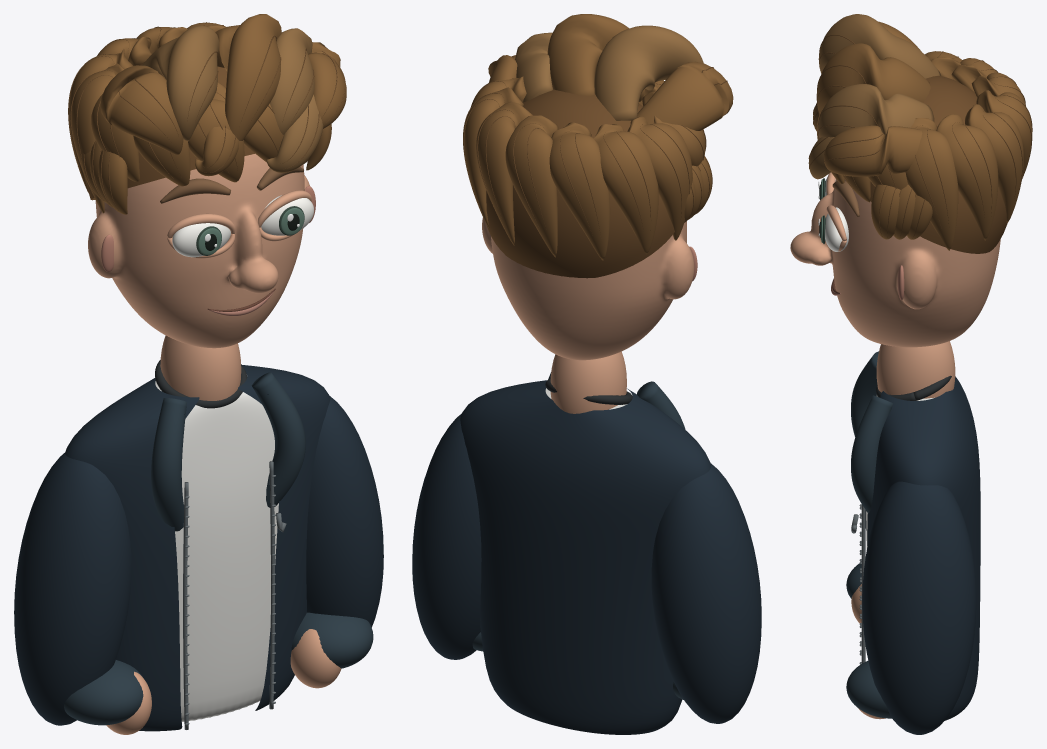
Rendered from nikk-avatar.glb.
The picture shows the model from 3 angles, left to right: view 1: azimuth 30°, elevation 25°; view 2: azimuth 150°, elevation 25°; view 3: azimuth 270°, elevation 25°; orthographic projection. The views are drawn at different scales.
Visible parts, largest first — view 1: Cotton shirt, Open cardigan, Cardigan sleeve, Face, Cardigan sleeve.001, Swept wave 15, Swept wave 14, Swept wave 13, Neck, Soft cardigan collar, Soft cardigan collar.001, Ribbed cuff (+24 smaller); view 2: Open cardigan, Cardigan sleeve, Face, Cardigan sleeve.001, Curly hair base, Swept wave 14, Swept wave 04, Swept wave 05, Swept wave 03, Swept wave 13, Swept wave 15, Swept wave 06 (+8 smaller); view 3: Cardigan sleeve.001, Face, Open cardigan, Swept wave 01, Swept wave 15, Swept wave 17, Swept wave 00, Curly hair base, Swept wave 16, Neck, Swept wave 14, Swept wave 02 (+17 smaller).
Part boxes in pixels (box(x1,y1,x2,y2)): Cotton shirt: box(155, 381, 278, 721); Open cardigan: box(65, 365, 330, 731); Cardigan sleeve: box(14, 453, 131, 725); Face: box(88, 153, 309, 348); Cardigan sleeve.001: box(306, 396, 383, 627); Swept wave 15: box(215, 14, 281, 140); Swept wave 14: box(142, 25, 219, 141); Swept wave 13: box(100, 65, 183, 154); Neck: box(160, 335, 241, 400); Soft cardigan collar: box(151, 398, 186, 531); Soft cardigan collar.001: box(251, 372, 305, 507); Ribbed cuff: box(64, 660, 143, 725); Open cardigan: box(460, 380, 711, 734); Cardigan sleeve: box(651, 463, 761, 723); Face: box(482, 218, 694, 360); Cardigan sleeve.001: box(412, 414, 481, 659); Curly hair base: box(486, 89, 674, 278); Swept wave 14: box(594, 25, 703, 120); Swept wave 04: box(549, 122, 610, 260); Swept wave 05: box(594, 124, 658, 254); Swept wave 03: box(505, 115, 558, 257); Swept wave 13: box(630, 61, 733, 130); Swept wave 15: box(547, 14, 628, 95); Swept wave 06: box(627, 116, 692, 240); Cardigan sleeve.001: box(862, 481, 976, 734); Face: box(790, 179, 1000, 347); Open cardigan: box(867, 376, 980, 720); Swept wave 01: box(936, 114, 998, 240); Swept wave 15: box(816, 43, 930, 113); Swept wave 17: box(824, 125, 922, 176); Swept wave 00: box(905, 118, 958, 250); Curly hair base: box(869, 75, 1007, 253); Swept wave 16: box(818, 84, 934, 138); Neck: box(876, 341, 955, 398); Swept wave 14: box(818, 14, 940, 78); Swept wave 02: box(965, 104, 1023, 223).
Size of the model in its own units: 2.25 by 4.3 by 1.44.
